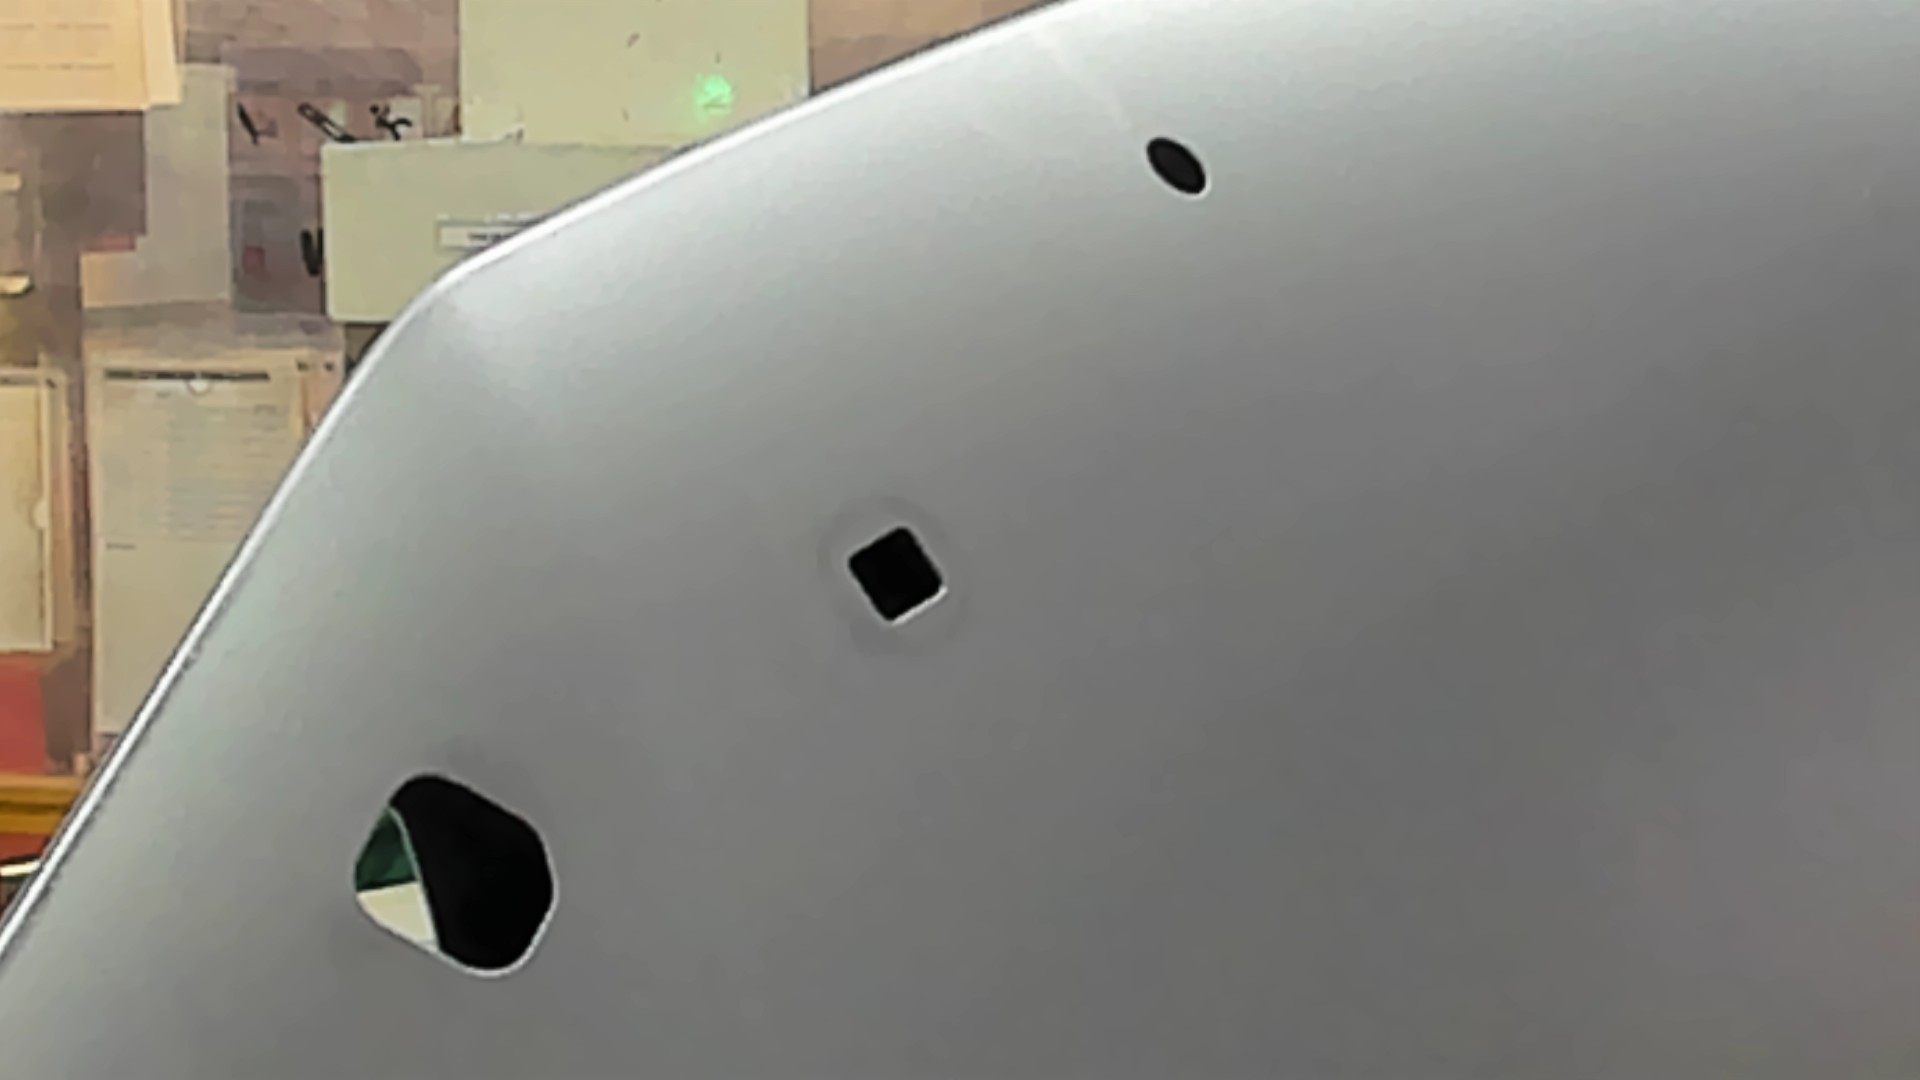chico: (1133, 119, 1218, 208)
grande: (318, 746, 570, 990)
mediano: (819, 512, 963, 626)
